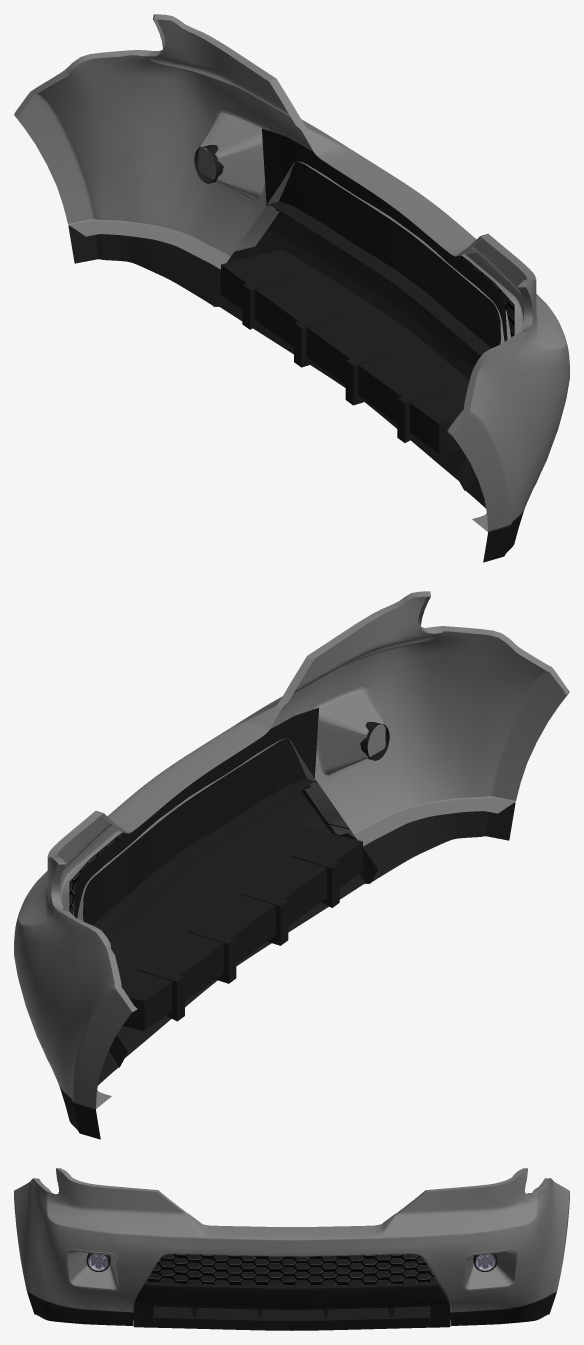
The picture shows the model from 3 angles, top to bottom: view 1: azimuth 30°, elevation 25°; view 2: azimuth 150°, elevation 25°; view 3: azimuth 270°, elevation 25°; orthographic projection. The views are drawn at different scales.
Parts seen in each view (by area): view 1: H713_021G_C_H713_021G_C_7_DaS, H713_021G_C_H713_021G_C_5_D, H713_021G_C_H713_021G_C_7_D, H713_021G_C_H713_021G_C_7_DaS_E; view 2: H713_021G_C_H713_021G_C_7_DaS, H713_021G_C_H713_021G_C_5_D, H713_021G_C_H713_021G_C_7_D, H713_021G_C_H713_021G_C_7_DaS_E; view 3: H713_021G_C_H713_021G_C_7_DaS, H713_021G_C_H713_021G_C_5_D, H713_021G_C_H713_021G_C_6_D, H713_021G_C_H713_021G_C_7_DaS_E, H713_021G_C_1_N_H713_021G_C, H713_021G_C_H713_021G_C_2_N, H713_021G_C_H713_021G_C_4_DTaSI, H713_021G_C_H713_021G_C_8_DTaSI, H713_021G_C_H713_021G_C_3_D.
Boxes of the visible parts, x1=… form: H713_021G_C_H713_021G_C_7_DaS: x1=16, y1=19, x2=569, y2=531; H713_021G_C_H713_021G_C_5_D: x1=68, y1=201, x2=525, y2=562; H713_021G_C_H713_021G_C_7_D: x1=220, y1=128, x2=507, y2=453; H713_021G_C_H713_021G_C_7_DaS_E: x1=14, y1=14, x2=536, y2=531; H713_021G_C_H713_021G_C_7_DaS: x1=14, y1=596, x2=569, y2=1108; H713_021G_C_H713_021G_C_5_D: x1=58, y1=779, x2=515, y2=1139; H713_021G_C_H713_021G_C_7_D: x1=73, y1=707, x2=363, y2=1030; H713_021G_C_H713_021G_C_7_DaS_E: x1=47, y1=591, x2=569, y2=1108; H713_021G_C_H713_021G_C_7_DaS: x1=14, y1=1168, x2=569, y2=1312; H713_021G_C_H713_021G_C_5_D: x1=27, y1=1279, x2=556, y2=1330; H713_021G_C_H713_021G_C_6_D: x1=147, y1=1254, x2=436, y2=1284; H713_021G_C_H713_021G_C_7_DaS_E: x1=33, y1=1168, x2=550, y2=1311; H713_021G_C_1_N_H713_021G_C: x1=475, y1=1254, x2=495, y2=1270; H713_021G_C_H713_021G_C_2_N: x1=88, y1=1254, x2=108, y2=1270; H713_021G_C_H713_021G_C_4_DTaSI: x1=88, y1=1254, x2=107, y2=1270; H713_021G_C_H713_021G_C_8_DTaSI: x1=476, y1=1254, x2=495, y2=1270; H713_021G_C_H713_021G_C_3_D: x1=86, y1=1253, x2=497, y2=1272.
Size of the model in its own units: 58.98 by 70.95 by 227.
